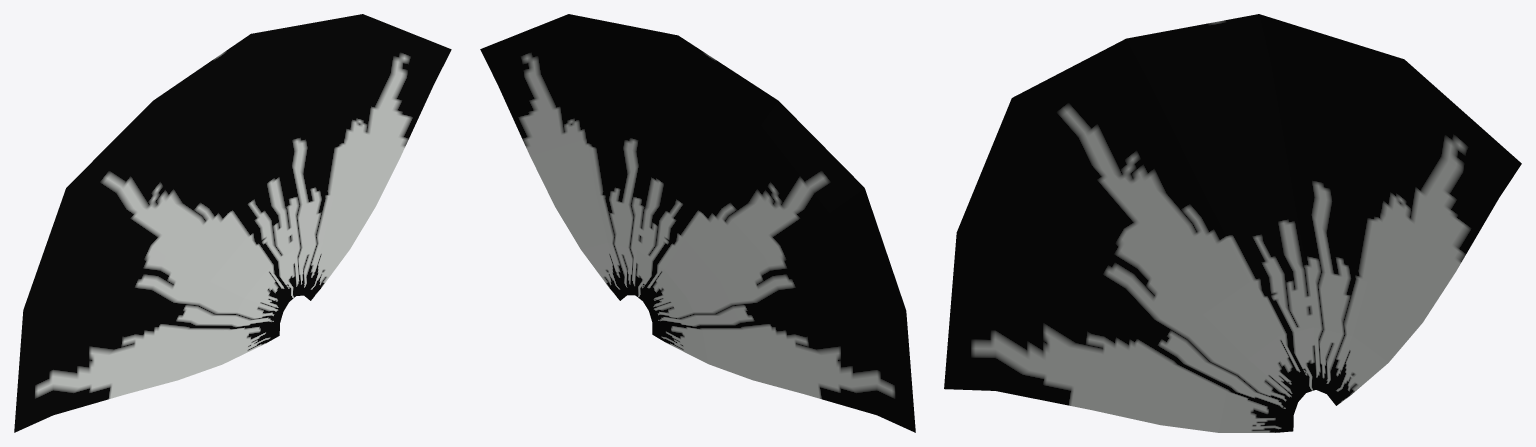
File: huan_01.FBX
The picture shows the model from 3 angles, left to right: view 1: azimuth 30°, elevation 25°; view 2: azimuth 150°, elevation 25°; view 3: azimuth 330°, elevation 25°; orthographic projection. The views are drawn at different scales.
Visible parts, largest first — view 1: Plane003; view 2: Plane003; view 3: Plane003.
Part boxes in pixels (x1,y1,x2,y2): Plane003: [14, 14, 451, 432]; Plane003: [480, 14, 915, 432]; Plane003: [944, 14, 1521, 432].
Size of the model in its own units: 206 by 153 by 1.22.
